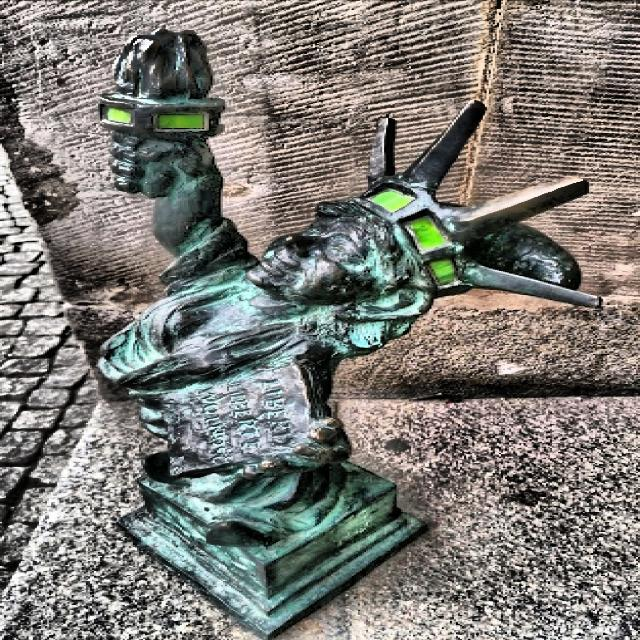LadyWolnosc: (100, 31, 599, 637)
